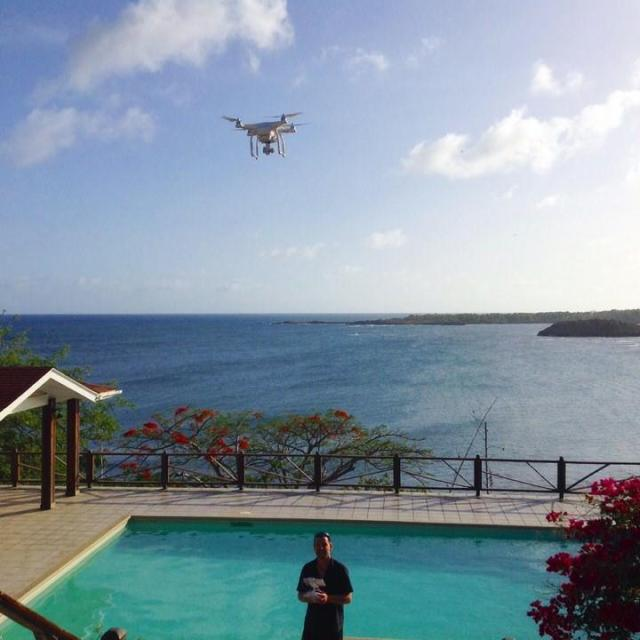drone: (221, 112, 313, 163)
